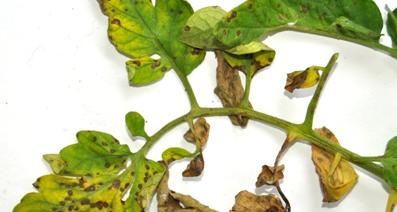Tomato Septoria leaf spot: (176, 0, 393, 69), (0, 132, 162, 212), (88, 0, 214, 92)
